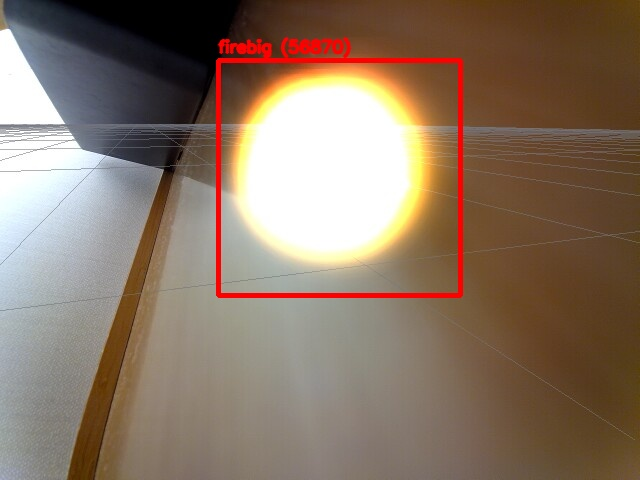firebig: (218, 60, 460, 295)
